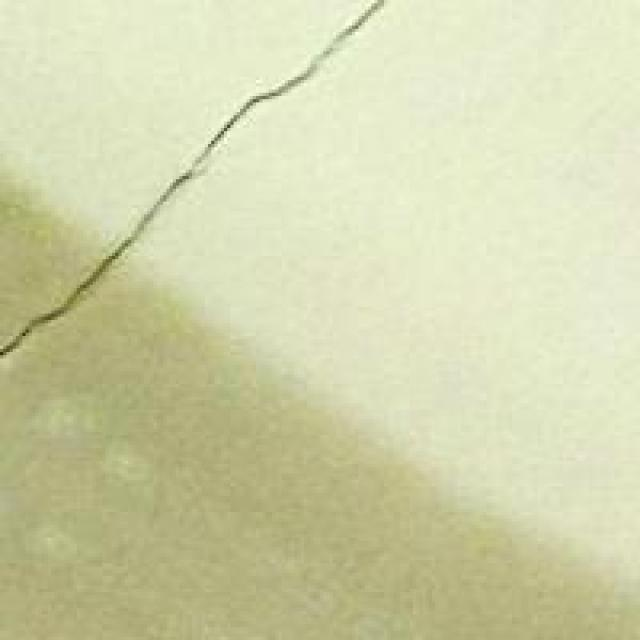crack: (6, 4, 452, 406)
